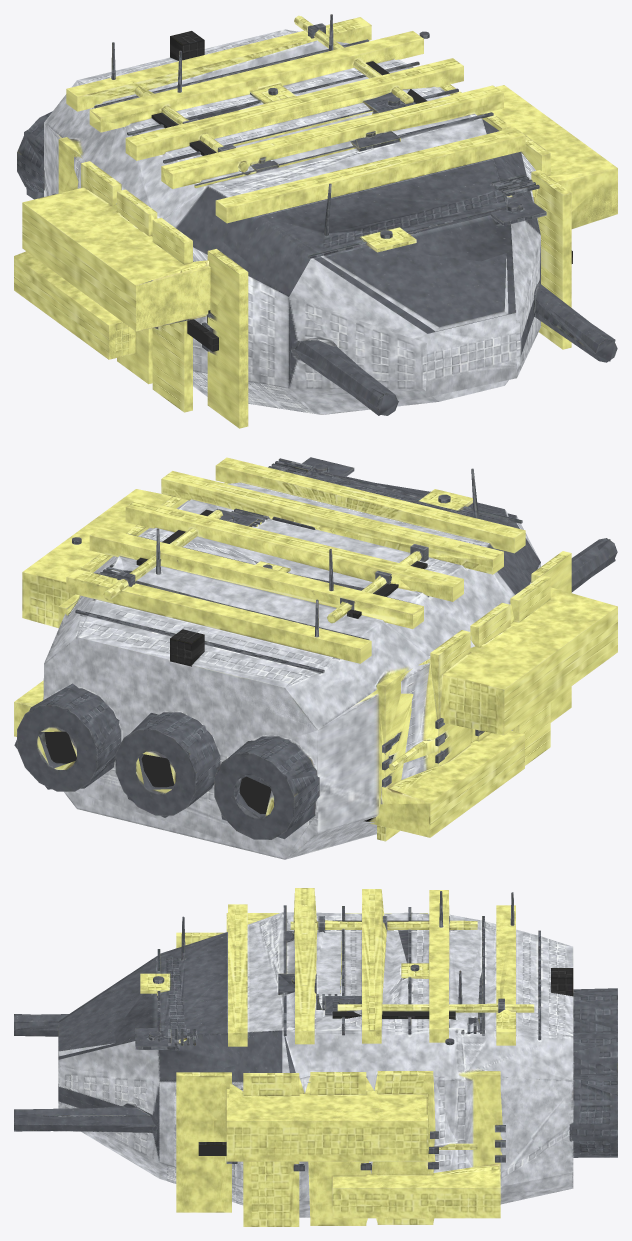
The model's file is sd_npc_brute.glb.
The picture shows the model from 3 angles, top to bottom: view 1: azimuth 30°, elevation 25°; view 2: azimuth 150°, elevation 25°; view 3: azimuth 270°, elevation 25°; orthographic projection. The views are drawn at different scales.
Visible parts, largest first — view 1: LOD0_body, LOD1_body; view 2: LOD0_body, LOD1_body; view 3: LOD0_body, LOD1_body.
Boxes of the visible parts, bbox=[...] form: LOD0_body: bbox=[14, 14, 617, 428]; LOD1_body: bbox=[14, 29, 617, 415]; LOD0_body: bbox=[14, 457, 617, 859]; LOD1_body: bbox=[14, 467, 617, 859]; LOD0_body: bbox=[14, 888, 617, 1226]; LOD1_body: bbox=[14, 888, 617, 1222].
Bounding box in the file's own units: 0.8148 × 0.4295 × 1.
1 material, 1 textured.
